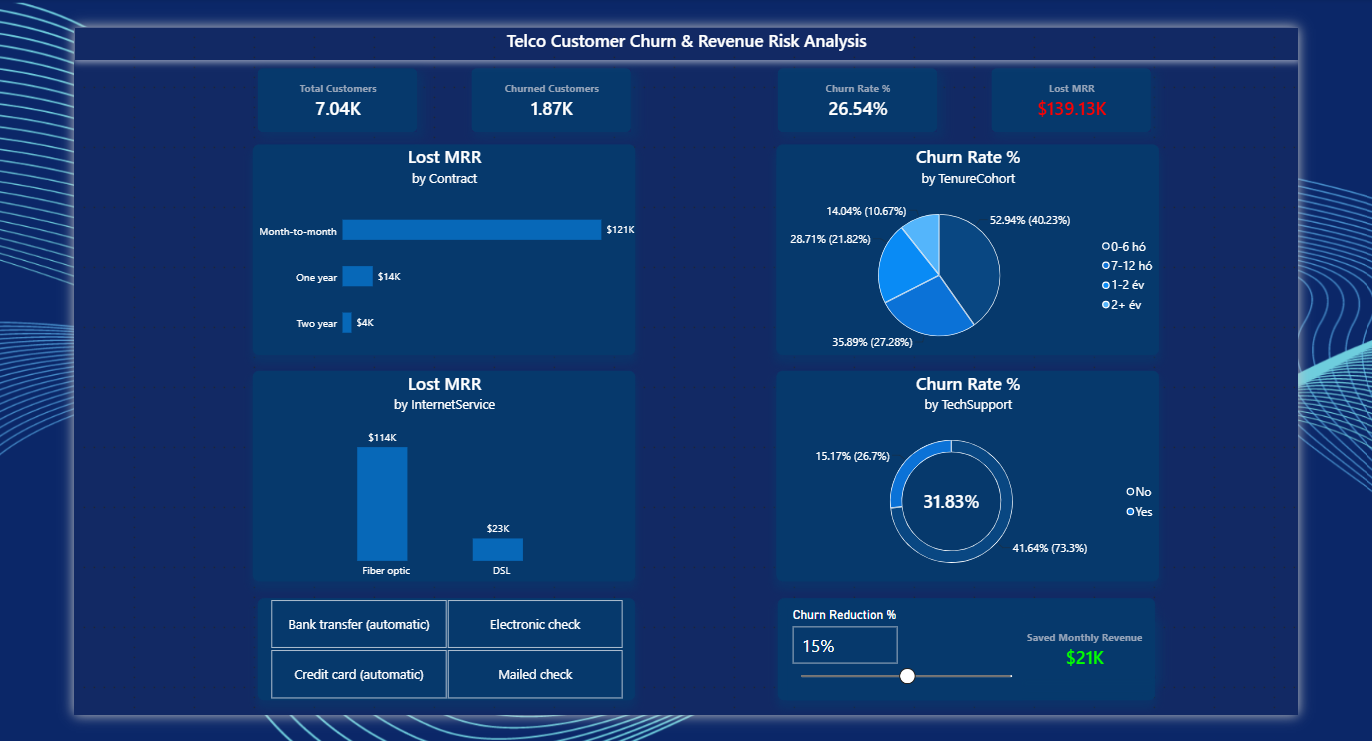

What the dashboard file says about the page in this screenshot:
{"tool":"powerbi","page":{"name":"Customer Churn & Revenue Risk","canvas":[1920,1080],"ordinal":0},"visuals":[{"type":"shape","box":[1104,896,592,160],"z":0},{"type":"cardVisual","fields":{"Data":["_Measures.Churned Customers"]},"box":[624,64,250,100],"z":1000},{"type":"cardVisual","fields":{"Data":["_Measures.Churn Rate %"]},"box":[1104,64,250,100],"z":2000},{"type":"cardVisual","fields":{"Data":["_Measures.Lost MRR"]},"box":[1440,64,250,100],"z":3000},{"type":"clusteredBarChart","fields":{"Category":["telco_churn_cleaned.Contract"],"Y":["_Measures.Lost MRR"]},"box":[280,183.3,600,330],"z":4000},{"type":"pieChart","fields":{"Category":["telco_churn_cleaned.TenureCohort"],"Y":["_Measures.Churn Rate %"]},"box":[1101.7,183.3,600,330],"z":5000},{"type":"columnChart","fields":{"Category":["telco_churn_cleaned.InternetService"],"Y":["_Measures.Lost MRR"]},"box":[280,540,600,330],"z":6000},{"type":"donutChart","fields":{"Category":["telco_churn_cleaned.TechSupport"],"Y":["_Measures.Churn Rate %"]},"box":[1101.7,540,600,330],"z":7000},{"type":"textbox","box":[2,2,1918,50],"z":8000},{"type":"cardVisual","fields":{"Data":["_Measures.Saved Monthly Revenue"]},"box":[1472,928,224,96],"z":9000},{"type":"slicer","fields":{"Values":["Churn Reduction %.Churn Reduction %"]},"box":[1120,912,368,144],"z":10000},{"type":"cardVisual","fields":{"Data":["_Measures.Total Customers"]},"box":[288,64,250,100],"z":11000},{"type":"slicer","fields":{"Values":["telco_churn_cleaned.PaymentMethod"]},"box":[288,896,592,160],"z":12000}]}

Visuals, with their boxes on the page's 1920x1080 design canvas (x1, y1, x2, y2). These are canvas units, not pixel positions in the 1372x741 screenshot, which may show the page scaled, cropped or inside an application window:
shape: detection(1104, 896, 1696, 1056)
cardVisual - _Measures.Churned Customers: detection(624, 64, 874, 164)
cardVisual - _Measures.Churn Rate %: detection(1104, 64, 1354, 164)
cardVisual - _Measures.Lost MRR: detection(1440, 64, 1690, 164)
clusteredBarChart - telco_churn_cleaned.Contract x _Measures.Lost MRR: detection(280, 183, 880, 513)
pieChart - telco_churn_cleaned.TenureCohort x _Measures.Churn Rate %: detection(1102, 183, 1702, 513)
columnChart - telco_churn_cleaned.InternetService x _Measures.Lost MRR: detection(280, 540, 880, 870)
donutChart - telco_churn_cleaned.TechSupport x _Measures.Churn Rate %: detection(1102, 540, 1702, 870)
textbox: detection(2, 2, 1920, 52)
cardVisual - _Measures.Saved Monthly Revenue: detection(1472, 928, 1696, 1024)
slicer - Churn Reduction %.Churn Reduction %: detection(1120, 912, 1488, 1056)
cardVisual - _Measures.Total Customers: detection(288, 64, 538, 164)
slicer - telco_churn_cleaned.PaymentMethod: detection(288, 896, 880, 1056)
